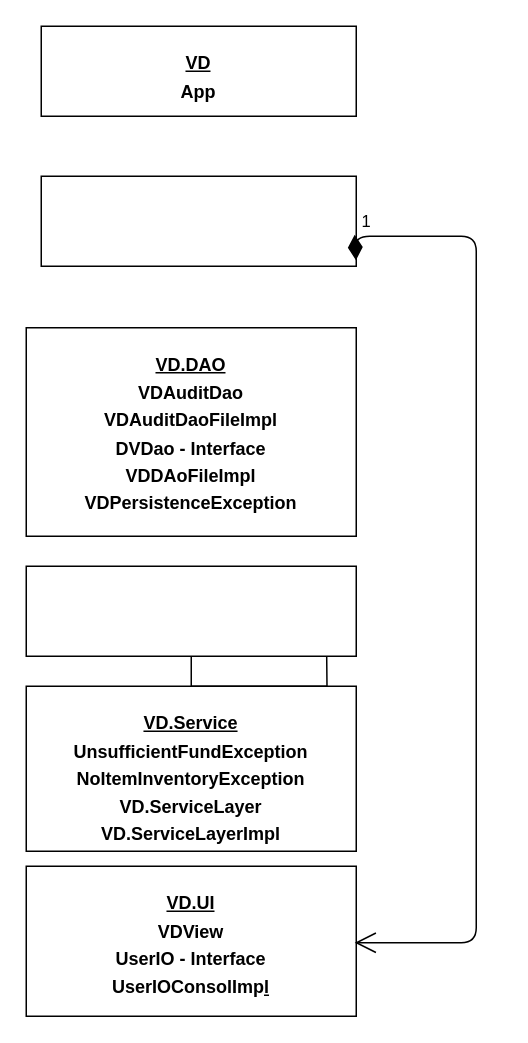
Some shapes in this 528 by 1043 pixel diagram are drawn without their labels. Here are the shapes that lost their labels. From the top down, the box of each, then its label:
(40, 175, 356, 266): VD.Controller
(25, 565, 356, 656): VD.DTO Item (name, price, quantity)
